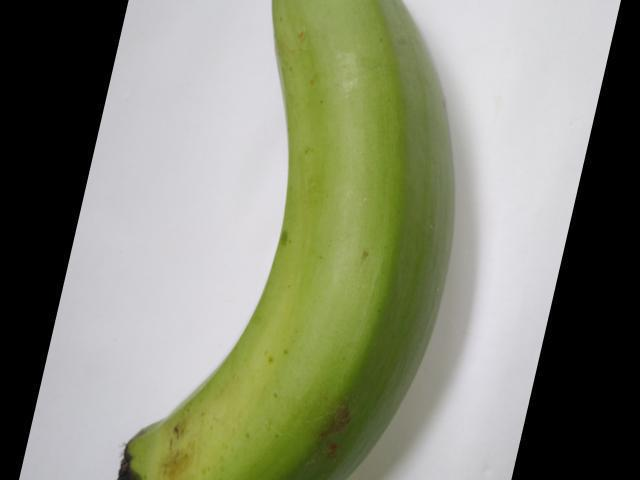freshunripe: (108, 0, 493, 479)
